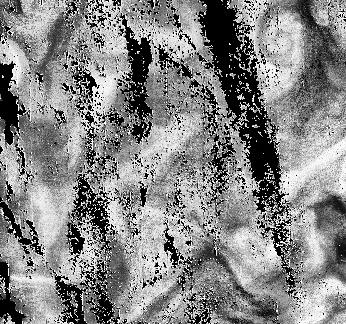CE: (253, 3, 311, 65)
